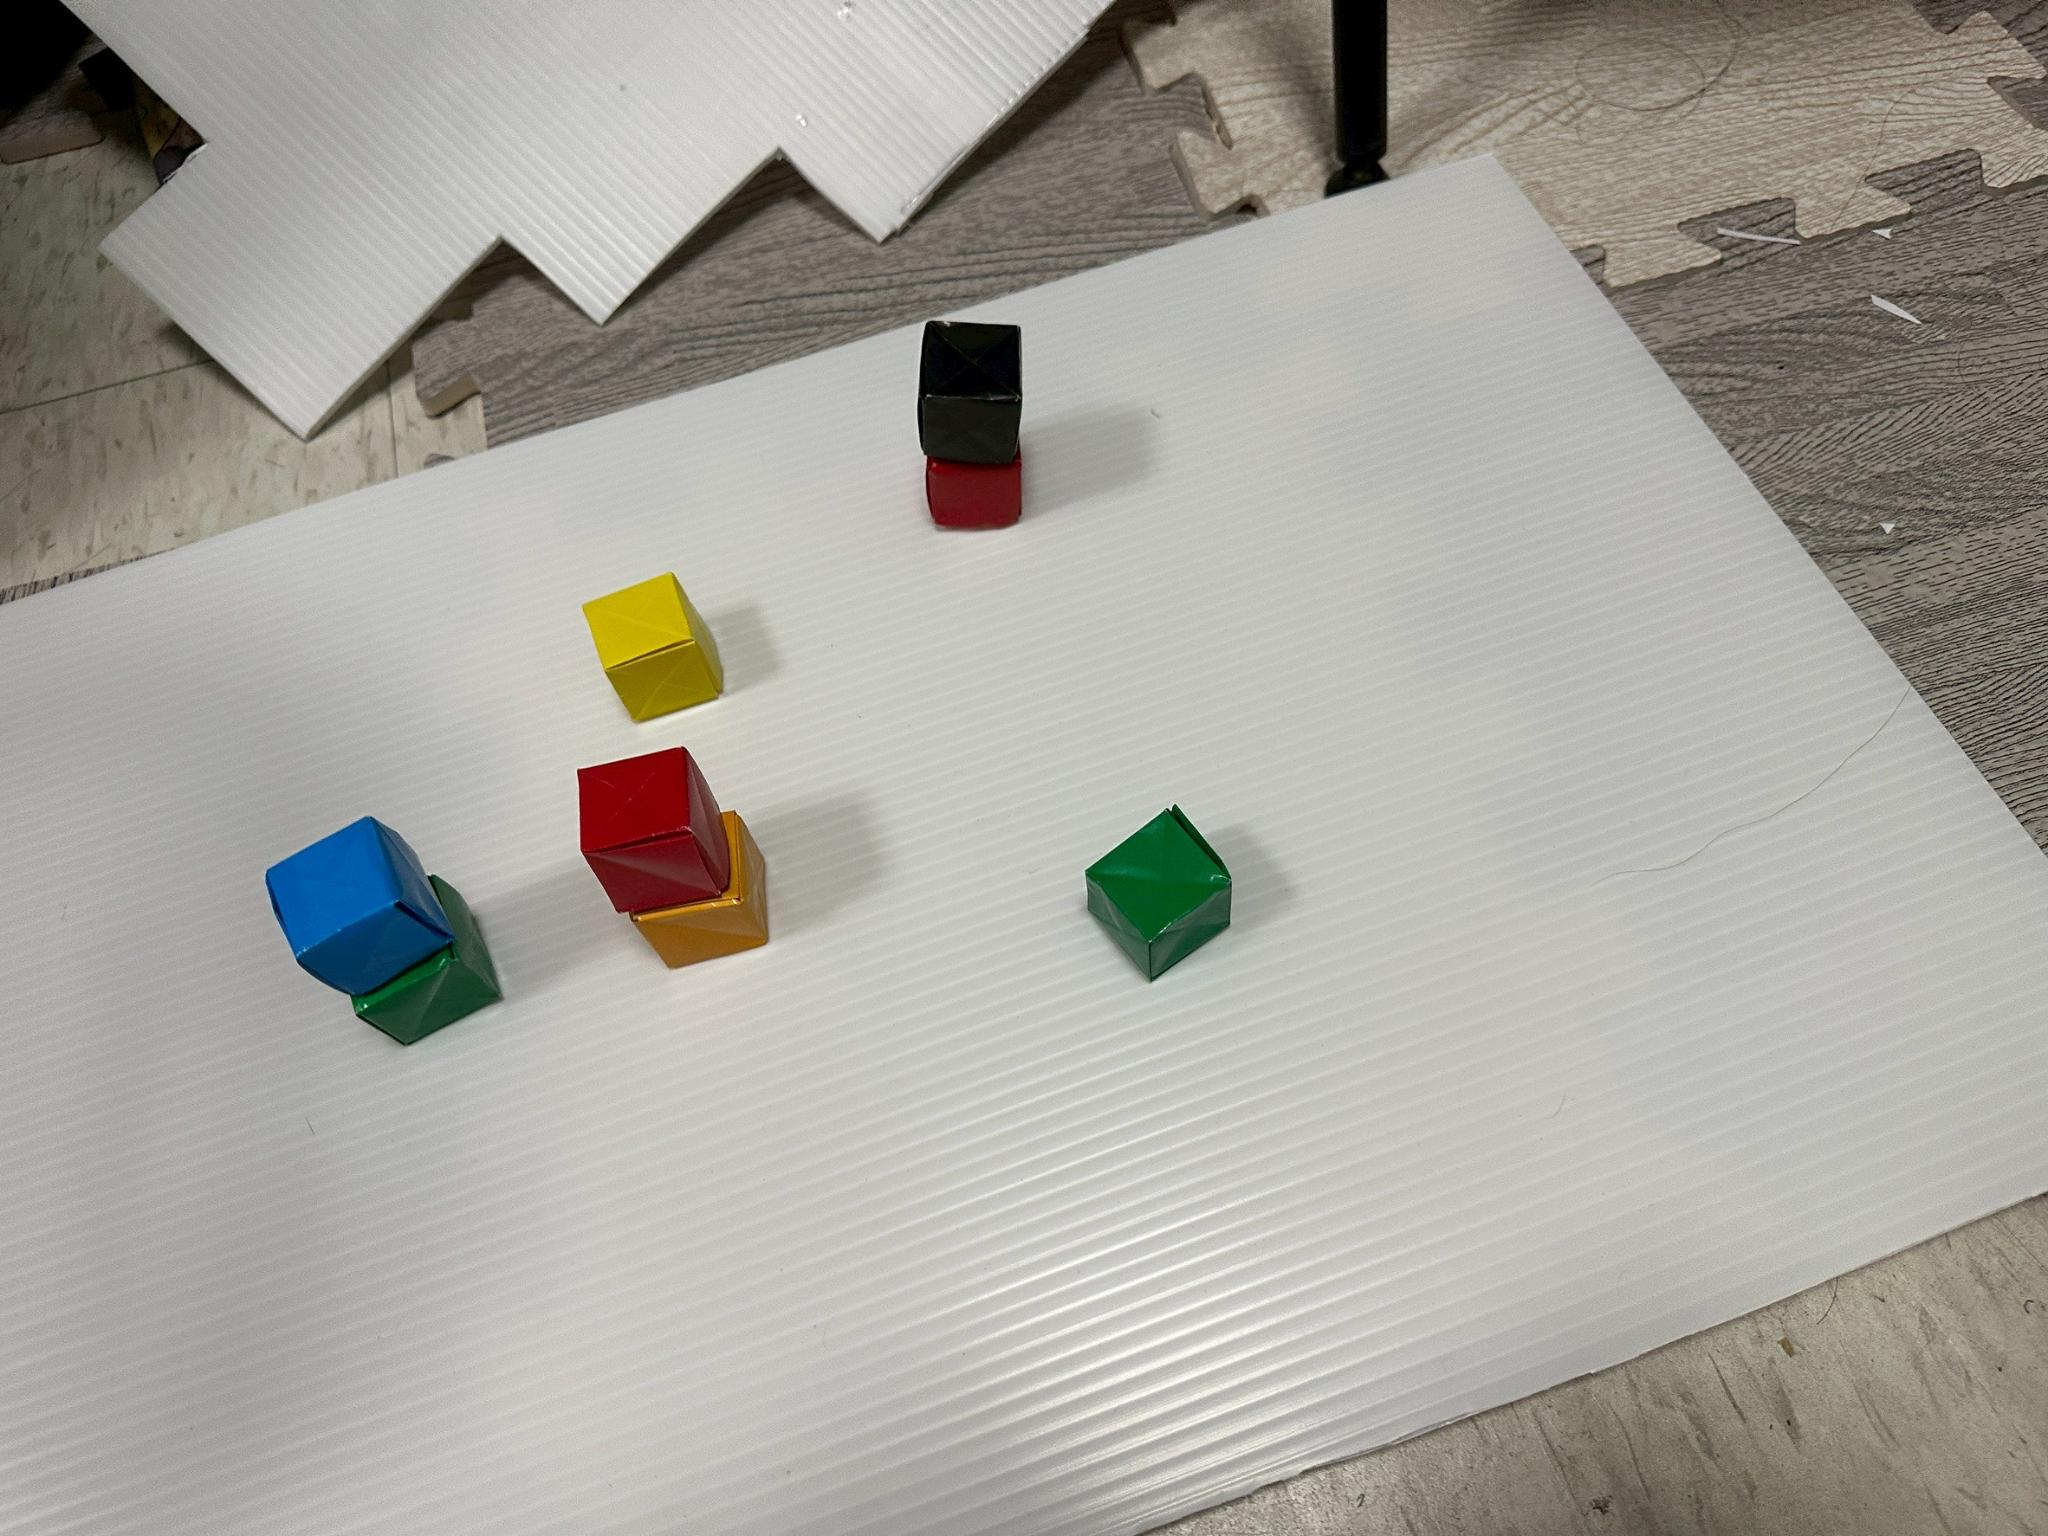base: (266, 818, 455, 994), (353, 876, 502, 1046), (579, 747, 729, 913), (1087, 812, 1230, 978), (632, 812, 768, 968), (584, 573, 724, 721), (918, 321, 1021, 465), (926, 455, 1022, 529)
